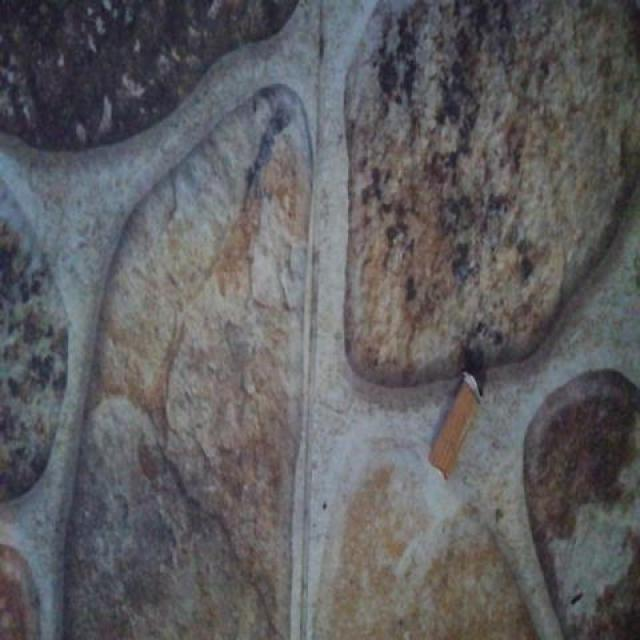non-organic waste: (424, 363, 487, 485)
